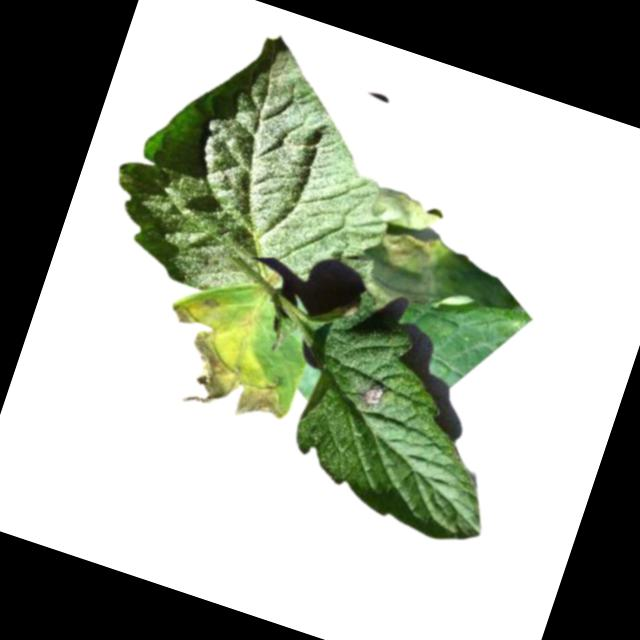Late_blight: (345, 181, 543, 341), (146, 285, 312, 431), (356, 376, 388, 411)
